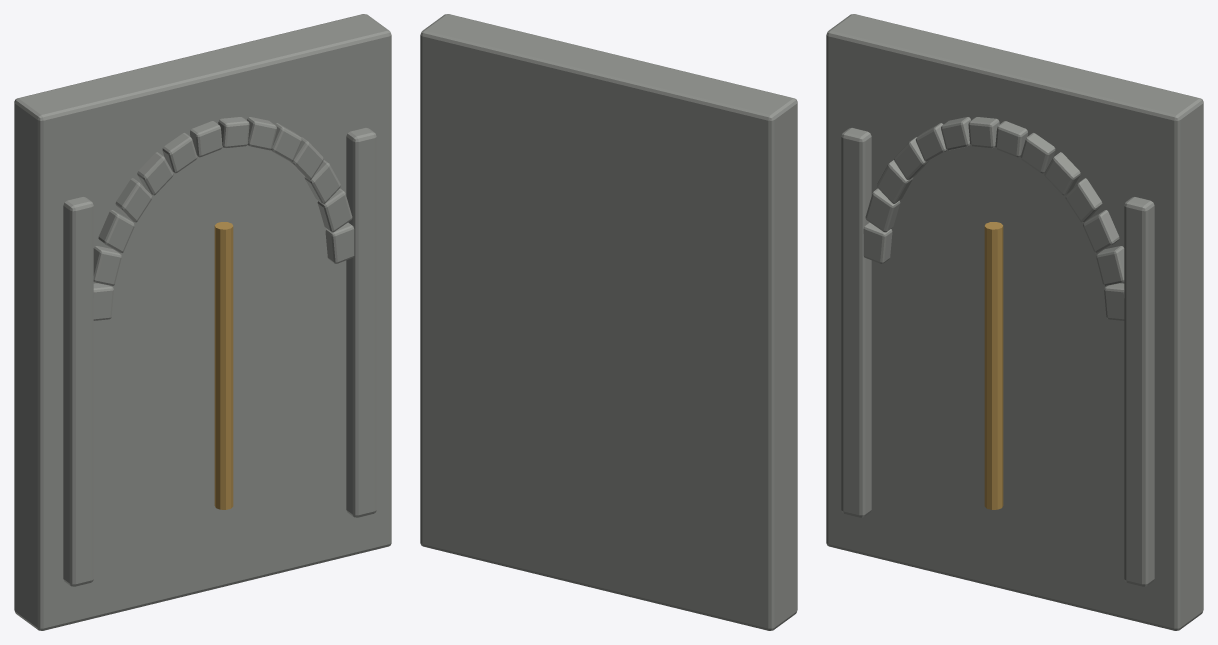
The model's file is dungeon_relief.glb.
The picture shows the model from 3 angles, left to right: view 1: azimuth 30°, elevation 25°; view 2: azimuth 150°, elevation 25°; view 3: azimuth 330°, elevation 25°; orthographic projection.
Parts seen in each view (by area): view 1: Body.032; view 2: Body.032; view 3: Body.032.
Boxes of the visible parts, x1,y1,x2,y2 form: Body.032: (14,14,391,630); Body.032: (420,14,797,630); Body.032: (826,14,1203,630).
Bounding box in the file's own units: 1.65 × 2.3 × 0.3161.
